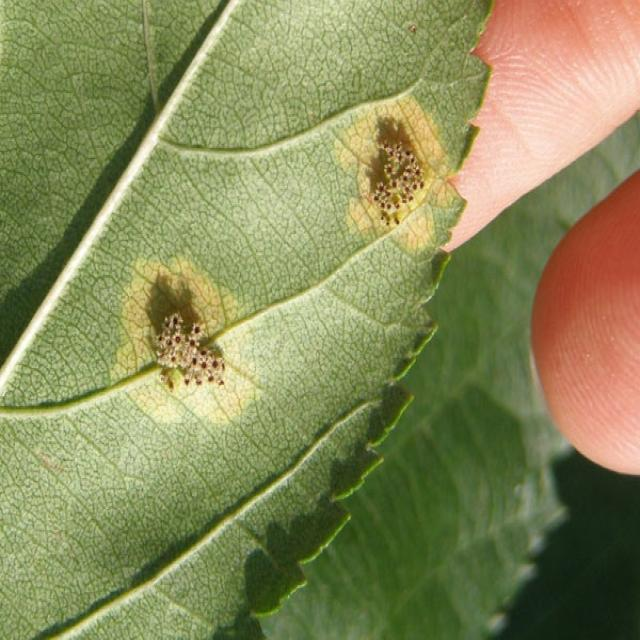Gymnosporangium_Rusts: (112, 39, 479, 473)
